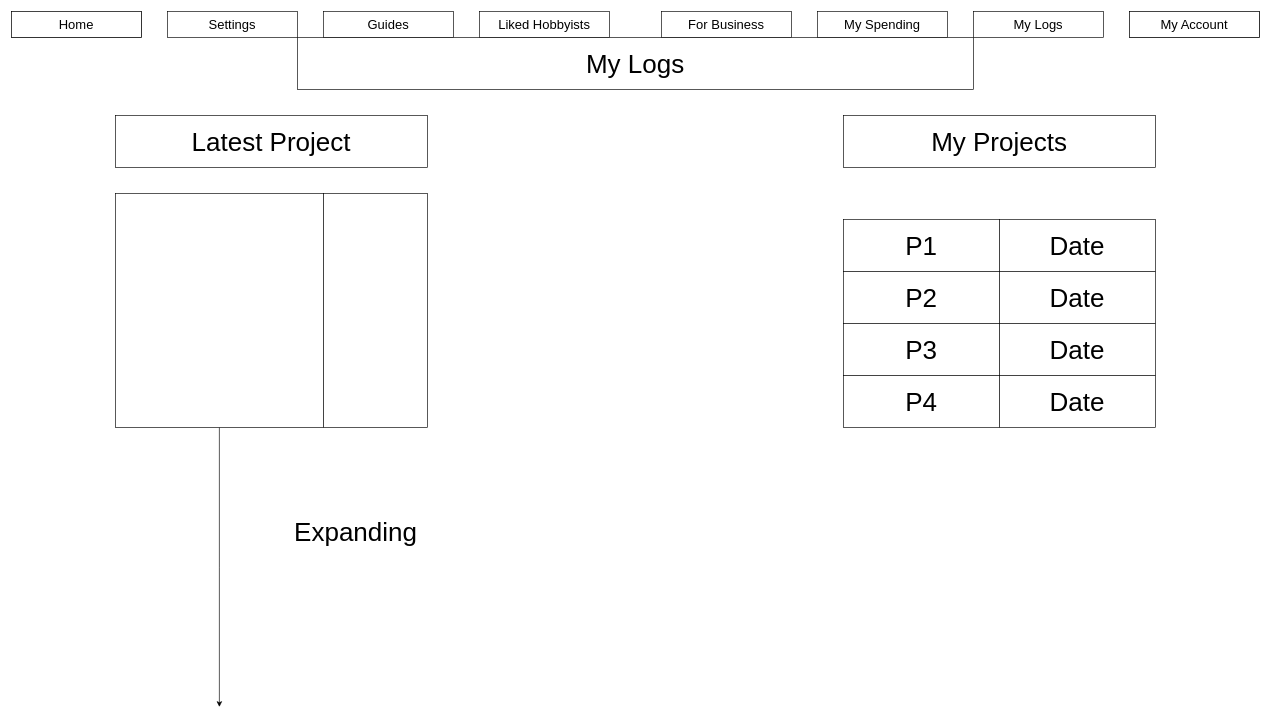
Image size: 1271x723. Some labels were removed from this diagram. The shapes that lost their labels are listed below. From the top down, each one's centre as x and y in pixels, then its label:
At pixel 219 310: "Todo List".
At pixel 375 310: "Date Finished".
